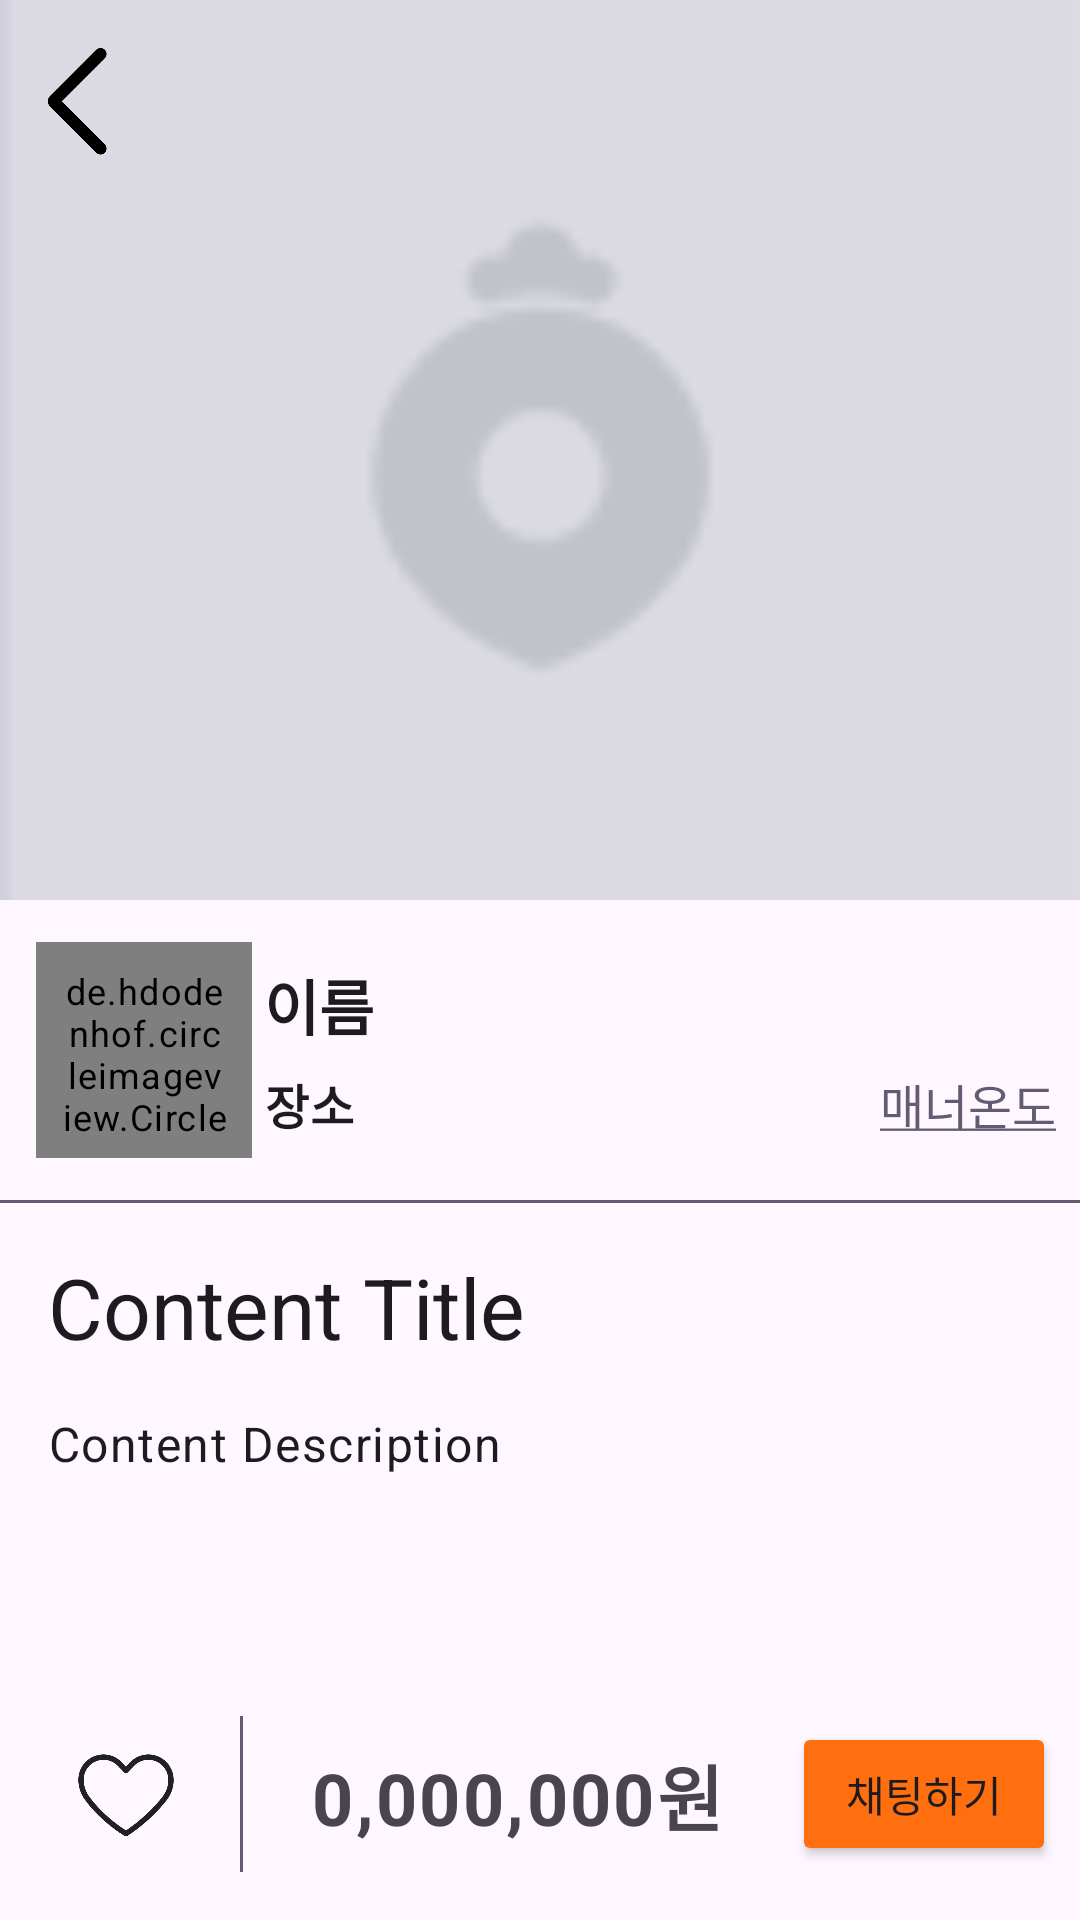

Named icons in this screenshot (1080px x 1920px) and their bounding boxes, (x1, y1, x2, y2):
arrow left: (48, 48, 107, 155)
heart: (78, 1754, 174, 1836)
